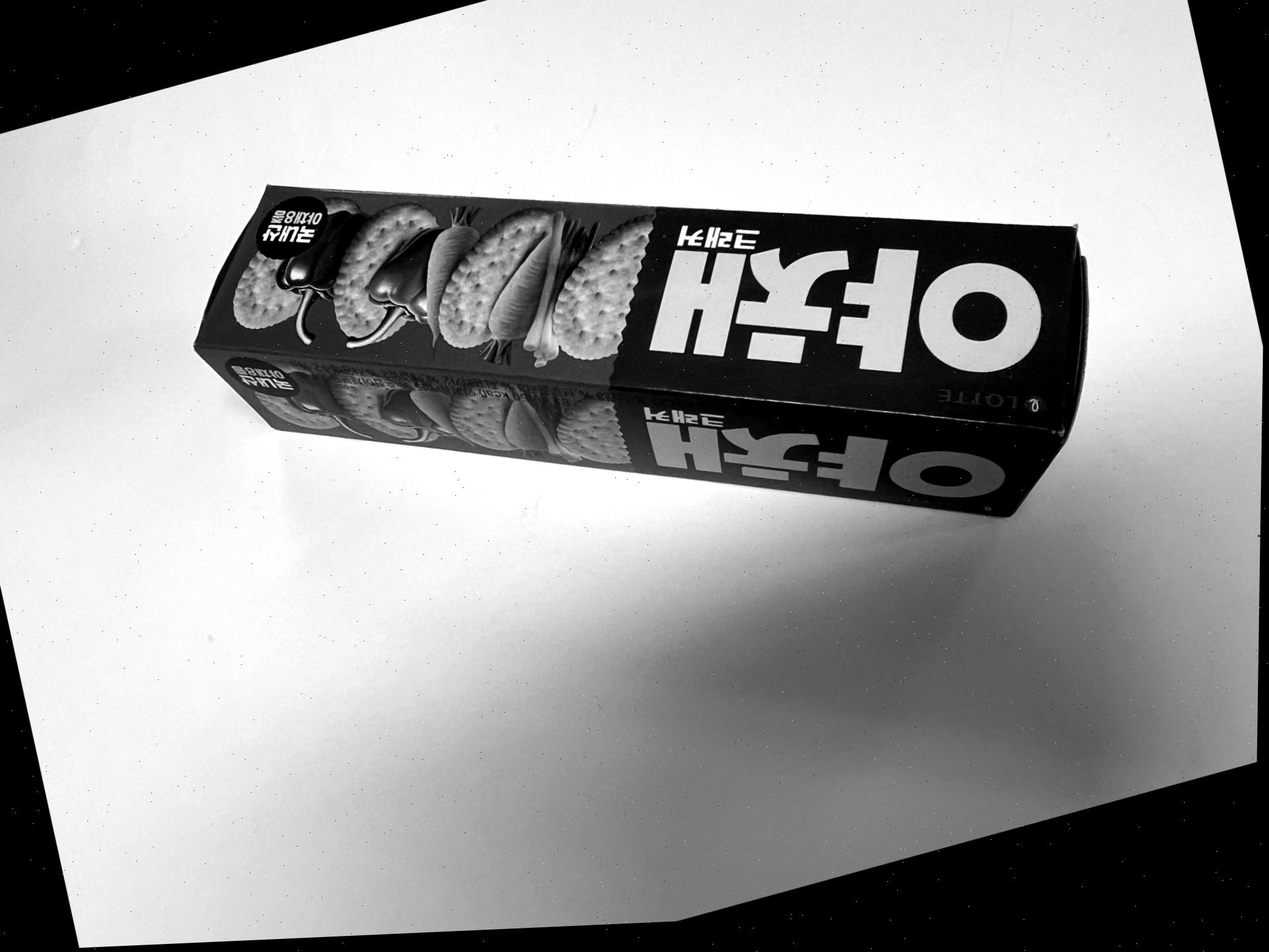cracker_vege: (195, 185, 1088, 516)
